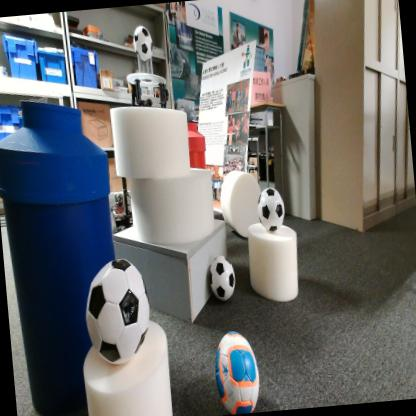ball: (80, 256, 154, 370), (213, 328, 262, 416), (206, 252, 238, 303), (256, 185, 288, 236), (132, 24, 156, 64)
